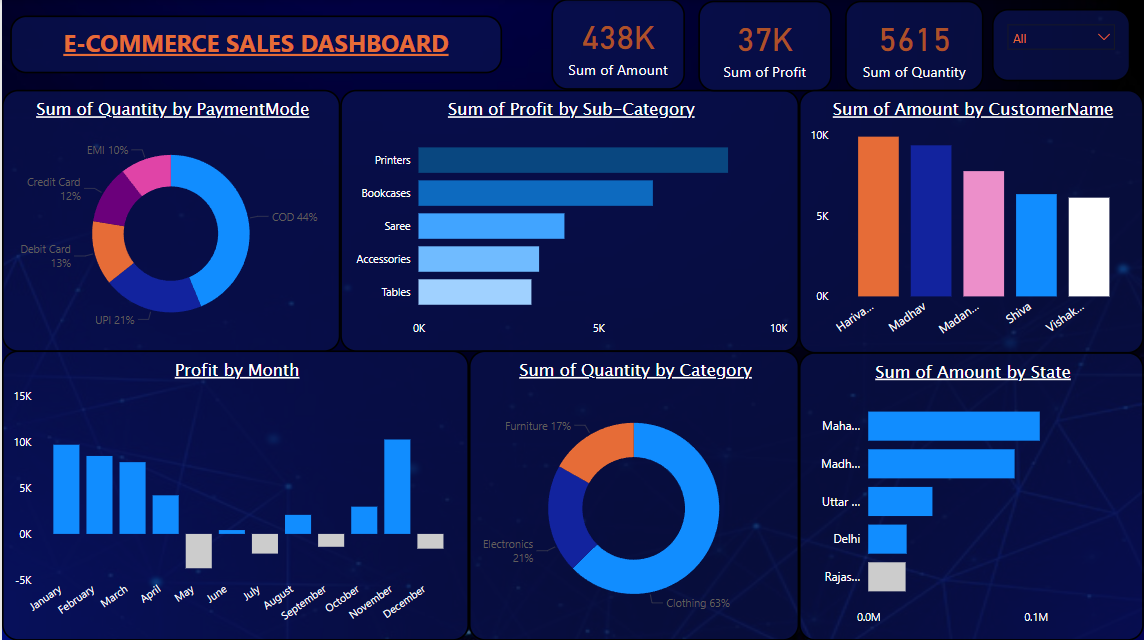

Layout of this report page (visuals, bound fields, positions):
{"tool":"powerbi","page":{"name":"Page 1","canvas":[1280,720],"ordinal":0},"visuals":[{"type":"textbox","box":[9.3,18.5,551.3,64.8],"z":0},{"type":"columnChart","title":"Profit by Month","fields":{"Category":["Orders.Order Date.Variation.Date Hierarchy.Month"],"Y":["Details.Profit"]},"box":[0,394.1,523.6,325.6],"z":1000},{"type":"barChart","fields":{"Category":["Details.Sub-Category"],"Y":["Details.Profit"]},"box":[379.3,101.8,514.3,294.2],"z":2000},{"type":"donutChart","fields":{"Category":["Details.Category"],"Y":["Details.Quantity"]},"box":[523.6,394.1,370,325.6],"z":3000},{"type":"donutChart","fields":{"Category":["Details.PaymentMode"],"Y":["Details.Quantity"]},"box":[0,101.8,379.3,294.2],"z":4000},{"type":"card","fields":{"Values":["Details.Amount"]},"box":[616.1,0,149.9,101.8],"z":5000},{"type":"card","fields":{"Values":["Details.Profit"]},"box":[780.7,1.9,149.8,101.8],"z":6000},{"type":"card","fields":{"Values":["Details.Quantity"]},"box":[945.4,1.9,155.4,101.8],"z":7000},{"type":"barChart","fields":{"Category":["Orders.State"],"Y":["Details.Amount"]},"box":[893.6,395.9,386.7,323.8],"z":8000},{"type":"lineClusteredColumnComboChart","fields":{"Category":["Orders.CustomerName"],"Y":["Details.Amount"]},"box":[893.6,101.8,386.7,296],"z":9000},{"type":"slicer","fields":{"Values":["Orders.State"]},"box":[1110,11.1,155.4,81.4],"z":10000}]}

Visuals, with their boxes in screenshot pixels (x1, y1, x2, y2), scaled from the page's 1280x720 canvas onto the 1144x640 screenshot:
textbox: x1=8 y1=16 x2=501 y2=74
"Profit by Month" columnChart: x1=0 y1=350 x2=468 y2=639
barChart - Details.Sub-Category x Details.Profit: x1=339 y1=90 x2=799 y2=352
donutChart - Details.Category x Details.Quantity: x1=468 y1=350 x2=799 y2=639
donutChart - Details.PaymentMode x Details.Quantity: x1=0 y1=90 x2=339 y2=352
card - Details.Amount: x1=551 y1=0 x2=685 y2=90
card - Details.Profit: x1=698 y1=2 x2=832 y2=92
card - Details.Quantity: x1=845 y1=2 x2=984 y2=92
barChart - Orders.State x Details.Amount: x1=799 y1=352 x2=1143 y2=639
lineClusteredColumnComboChart - Orders.CustomerName x Details.Amount: x1=799 y1=90 x2=1143 y2=354
slicer - Orders.State: x1=992 y1=10 x2=1131 y2=82
